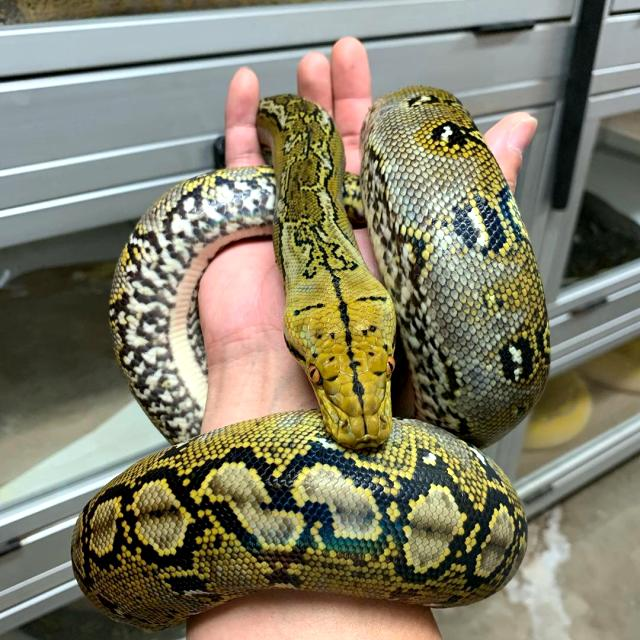Malayopython reticulatus: (72, 88, 549, 628)
